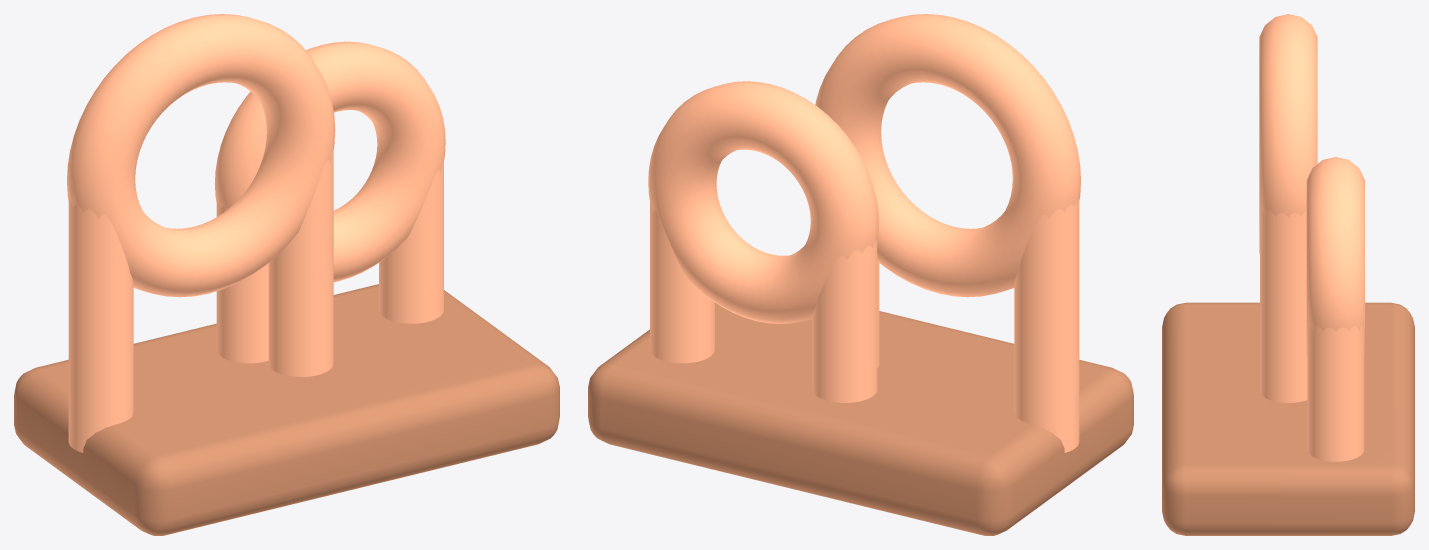
File: arch_pair.glb
3 views of the same model, side by side, from view 1: azimuth 30°, elevation 25°; view 2: azimuth 150°, elevation 25°; view 3: azimuth 270°, elevation 25° (orthographic). The views are drawn at different scales.
Parts seen in each view (by area): view 1: arch_pair; view 2: arch_pair; view 3: arch_pair.
Part boxes in pixels (<box>): arch_pair: <box>14,14,559,535</box>; arch_pair: <box>588,14,1133,535</box>; arch_pair: <box>1162,14,1414,535</box>.
Size of the model in its own units: 0.273 by 0.273 by 0.16.
